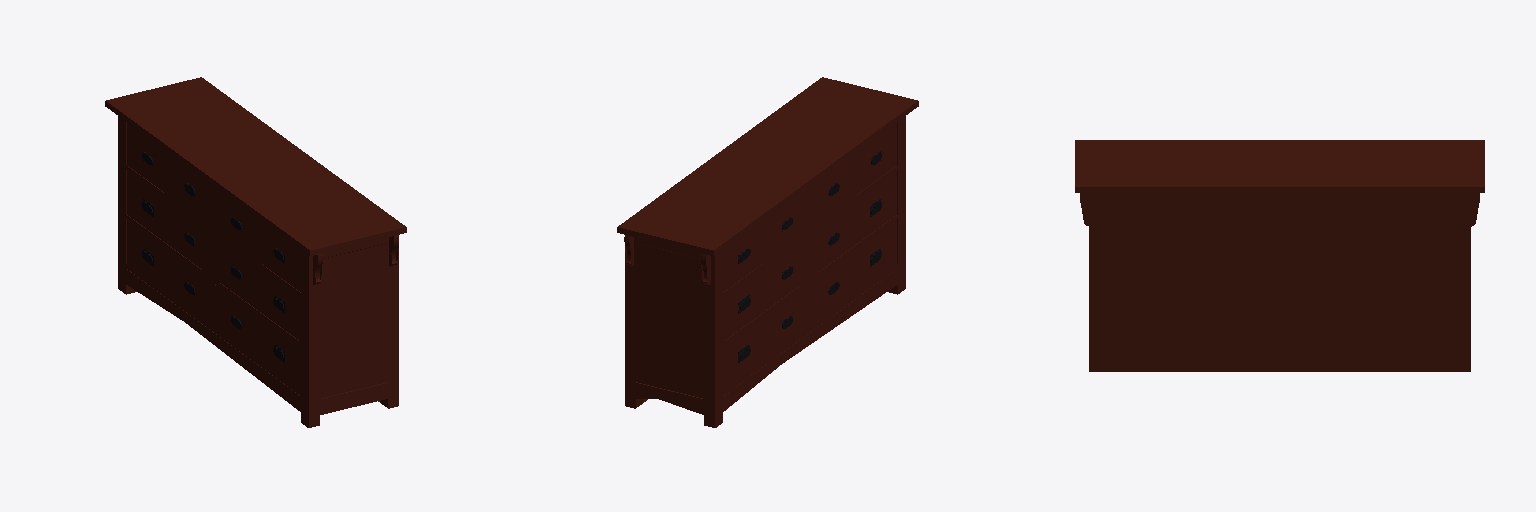
The model's file is Dresser_3.obj.
3 views of the same model, side by side, from view 1: azimuth 30°, elevation 25°; view 2: azimuth 150°, elevation 25°; view 3: azimuth 270°, elevation 25° (orthographic).
Visible parts, largest first — view 1: Mesh2 Group2 Component_8_1 Model; view 2: Mesh2 Group2 Component_8_1 Model; view 3: Mesh2 Group2 Component_8_1 Model.
Boxes of the visible parts, box(x1,y1,x2,y2) form: Mesh2 Group2 Component_8_1 Model: box(105, 77, 406, 427); Mesh2 Group2 Component_8_1 Model: box(617, 77, 918, 427); Mesh2 Group2 Component_8_1 Model: box(1075, 140, 1484, 371).
Bounding box in the file's own units: 0.4413 × 0.8065 × 1.63.